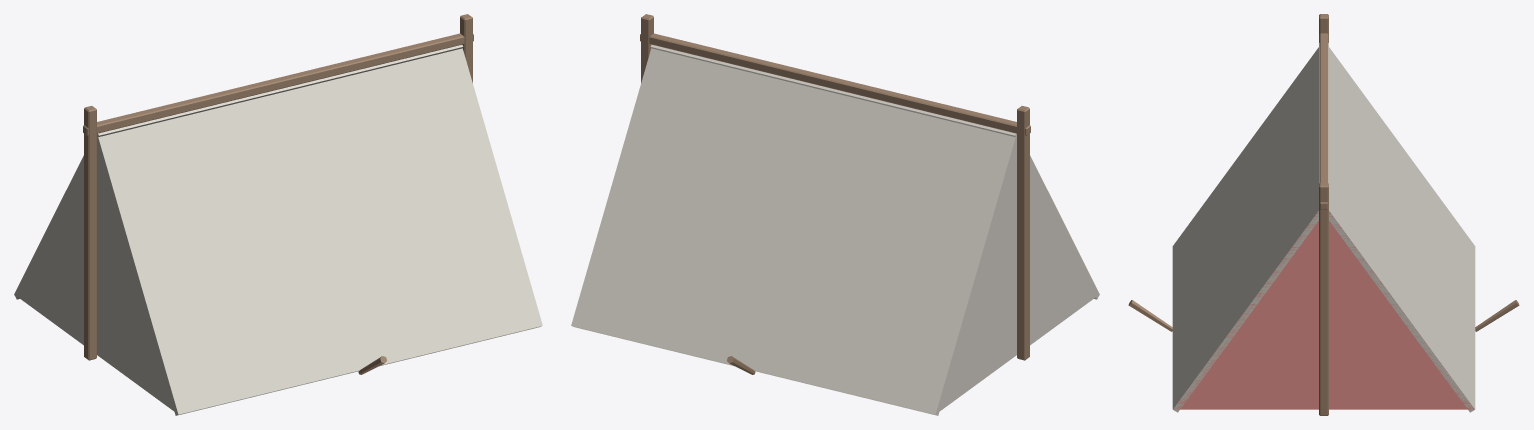
Rendered from prop_tent.glb.
3 renders of one model, left to right at view 1: azimuth 30°, elevation 25°; view 2: azimuth 150°, elevation 25°; view 3: azimuth 270°, elevation 25°, orthographic. The views are drawn at different scales.
Visible parts, largest first — view 1: prop_tent; view 2: prop_tent; view 3: prop_tent.
Boxes of the visible parts, x1,y1,x2,y2 form: prop_tent: (14, 14, 542, 415); prop_tent: (571, 14, 1099, 415); prop_tent: (1128, 14, 1519, 415).
Size of the model in its own units: 3.4 by 2.12 by 3.23.
